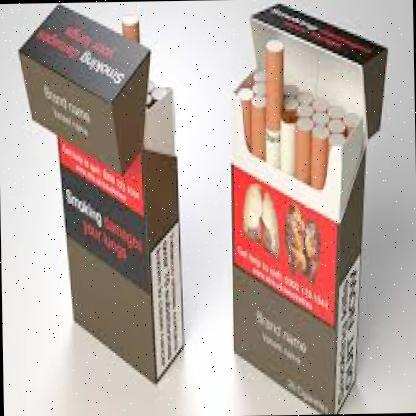bungkus rokok: (221, 0, 393, 409), (15, 1, 192, 386)
